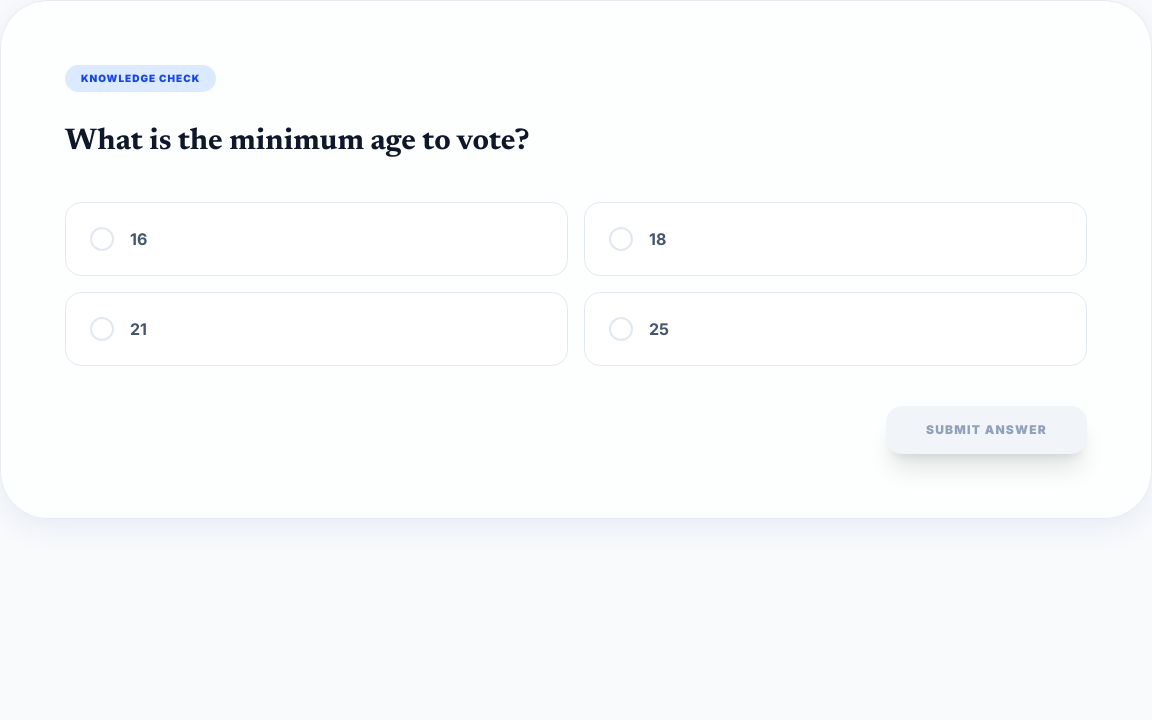
Test: QuizSection › shows explanation after submission
What coordinates should you click on to do the following:
click the button "18"
I would click on:
 (621, 238)
Its box is [584, 202, 1087, 276].
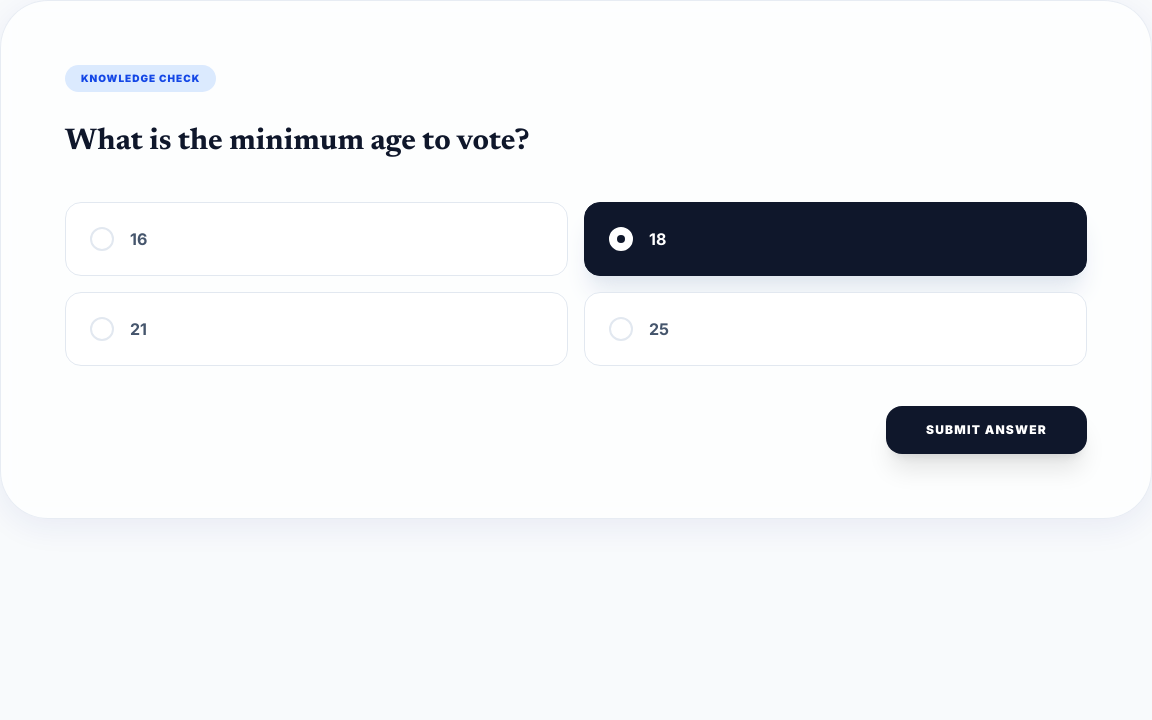
What coordinates should you click on to do the following:
click the button "Submit Answer"
I would click on:
 (986, 430)
Its box is [886, 406, 1087, 454].
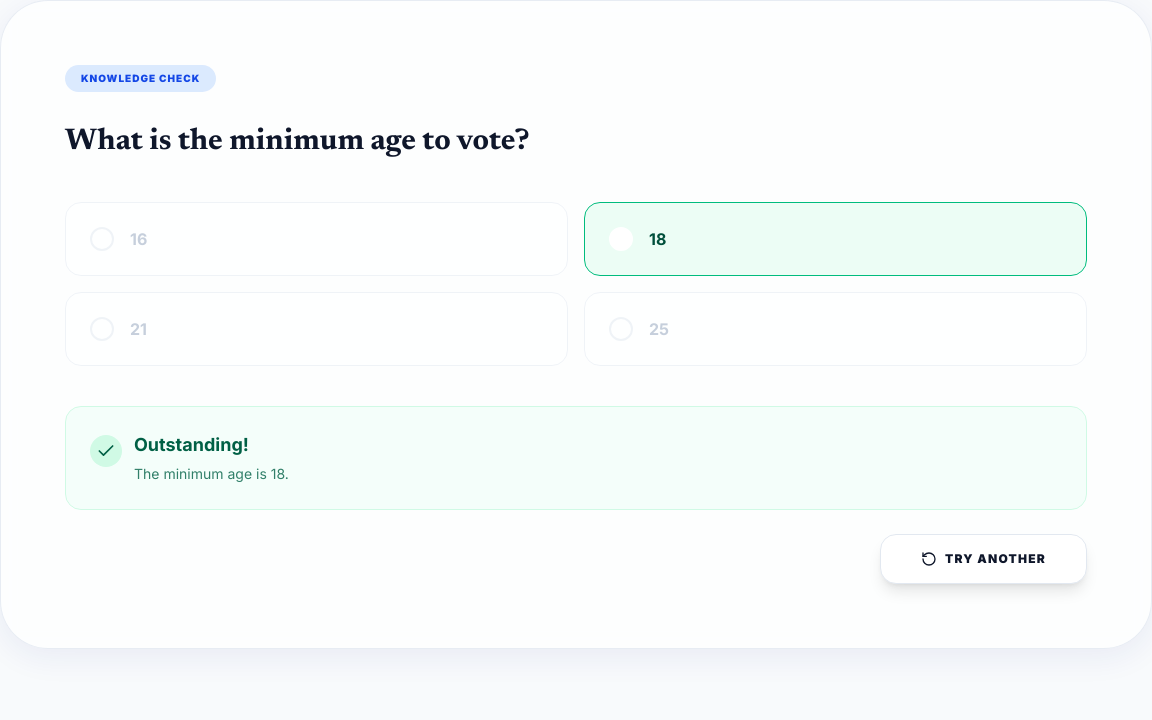
Expected: the text "The minimum age is 18." is shown, [134, 462, 289, 485]
Expected: the text "Outstanding!" is shown, [134, 434, 249, 454]
